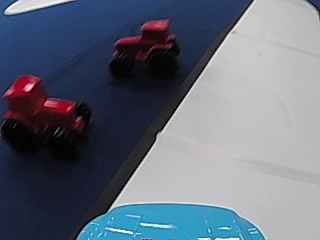tractor: (0, 68, 90, 154), (108, 17, 180, 81)
